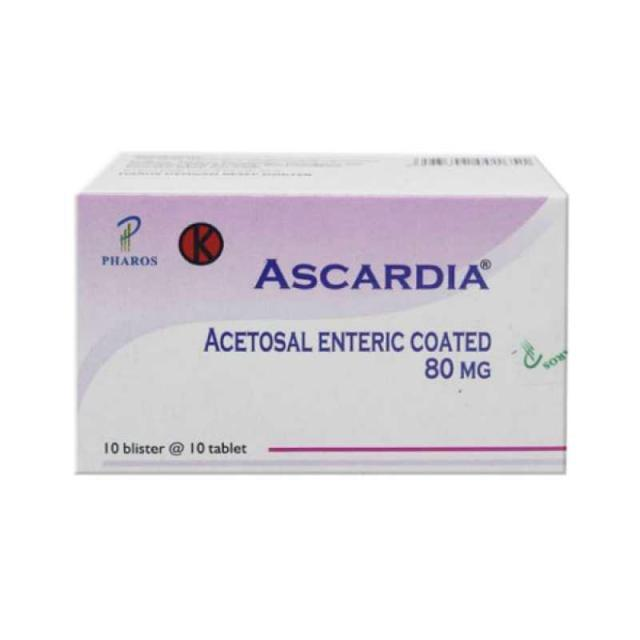drug-name: (254, 256, 494, 296)
